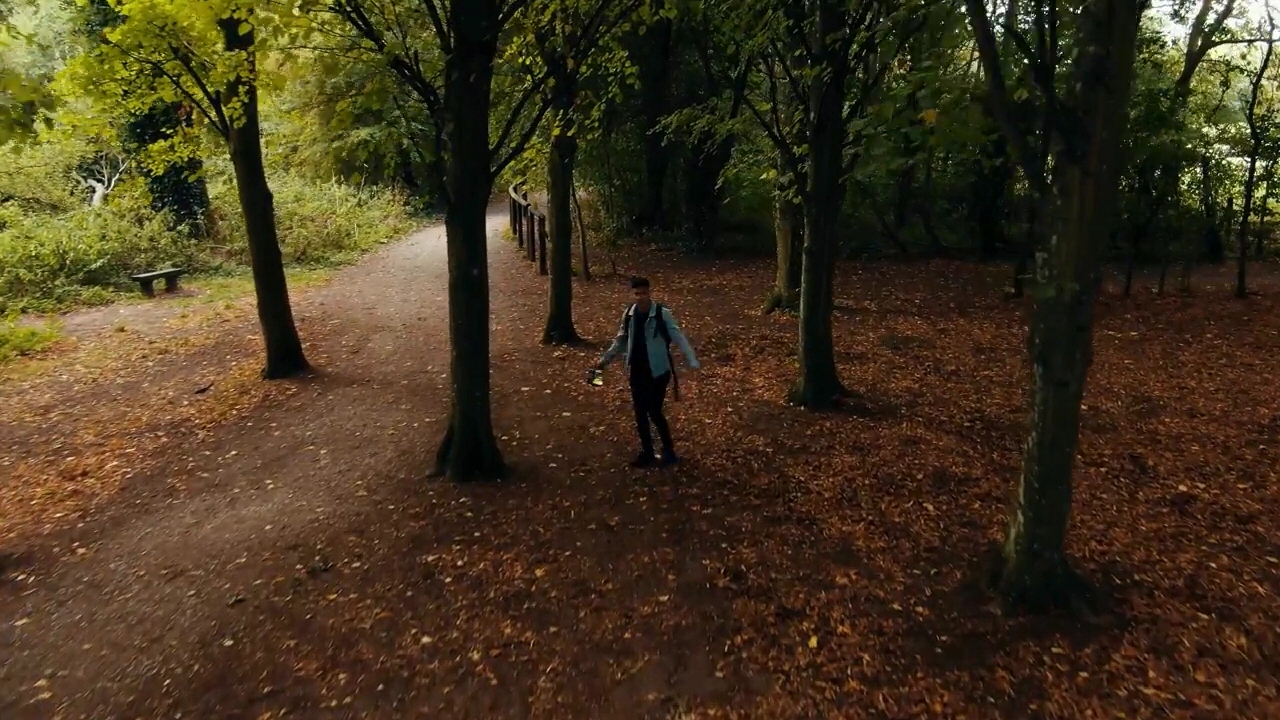insan: (587, 272, 706, 465)
